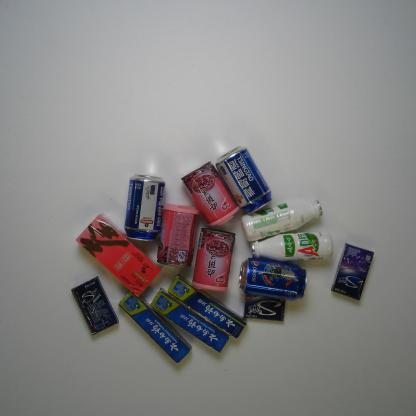Alcohol: (212, 144, 273, 216), (118, 170, 166, 244)
Canned Food: (179, 158, 241, 230), (190, 222, 238, 294), (153, 201, 200, 270)
Drink: (235, 256, 310, 302)
Gum: (326, 238, 376, 305), (70, 273, 120, 339), (240, 292, 289, 324)
Instant Drink: (73, 209, 161, 298)
Milk: (238, 194, 326, 244), (249, 228, 336, 266)
Personal Hygiene: (115, 289, 195, 367), (148, 286, 232, 356), (166, 272, 249, 342)
